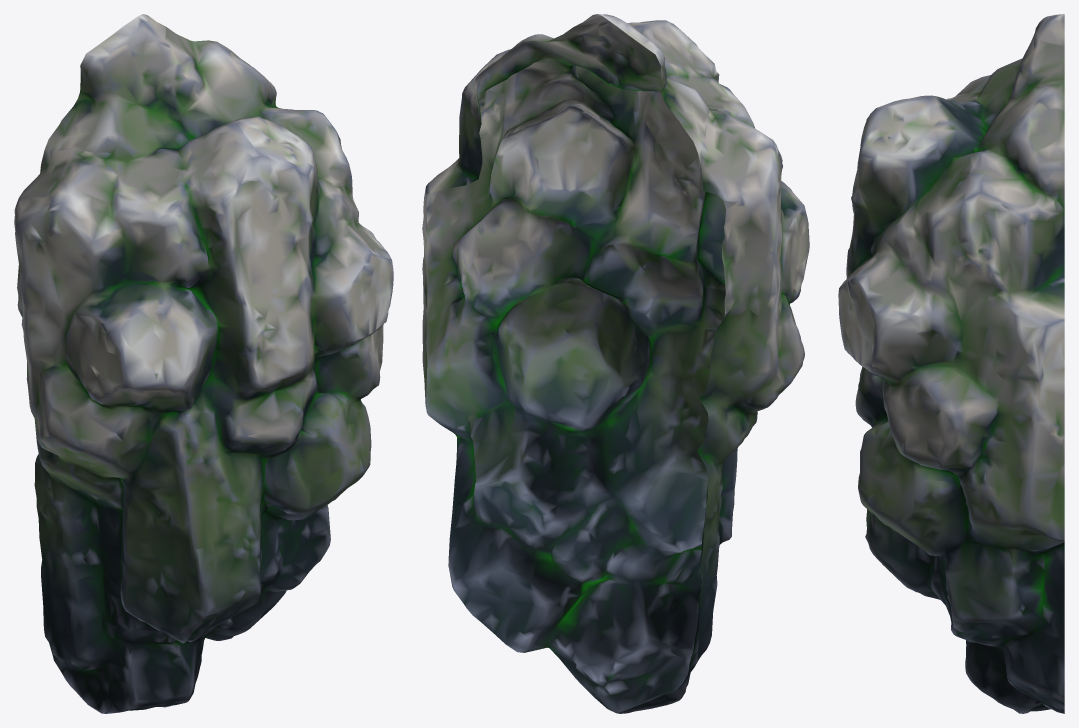
The model's file is M_Cliff_Rock_T19.fbx.
The picture shows the model from 3 angles, left to right: view 1: azimuth 30°, elevation 25°; view 2: azimuth 150°, elevation 25°; view 3: azimuth 270°, elevation 25°; orthographic projection. The views are drawn at different scales.
Visible parts, largest first — view 1: M_Cliff_Rock_T19; view 2: M_Cliff_Rock_T19; view 3: M_Cliff_Rock_T19.
Part boxes in pixels (x1,y1,x2,y2): M_Cliff_Rock_T19: (14, 14, 393, 713); M_Cliff_Rock_T19: (422, 14, 809, 713); M_Cliff_Rock_T19: (838, 14, 1064, 713).
Size of the model in its own units: 12.24 by 23.82 by 6.99.
